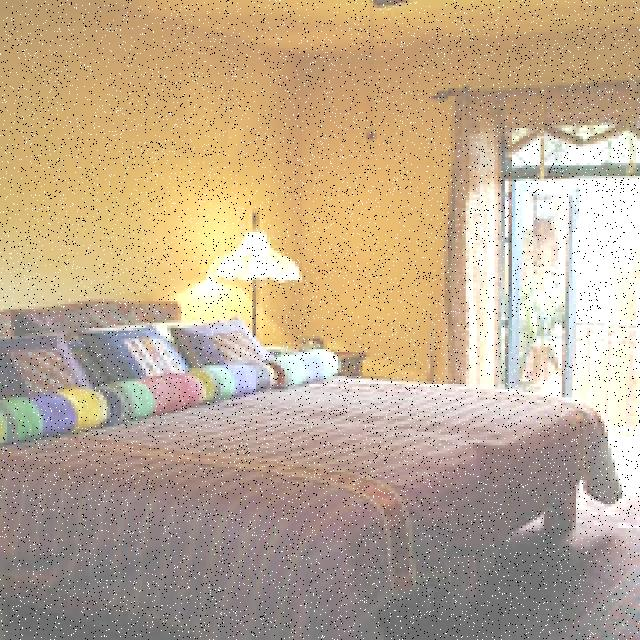bed: (0, 296, 624, 640)
